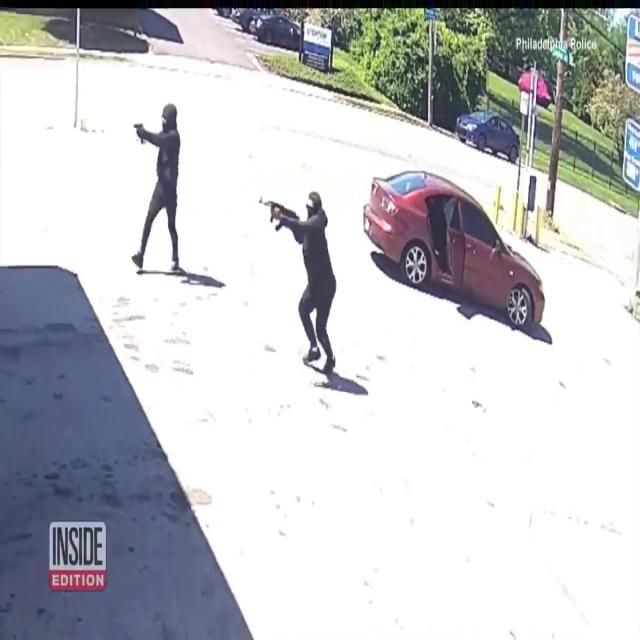penembakan: (257, 184, 342, 384), (125, 98, 187, 278)
